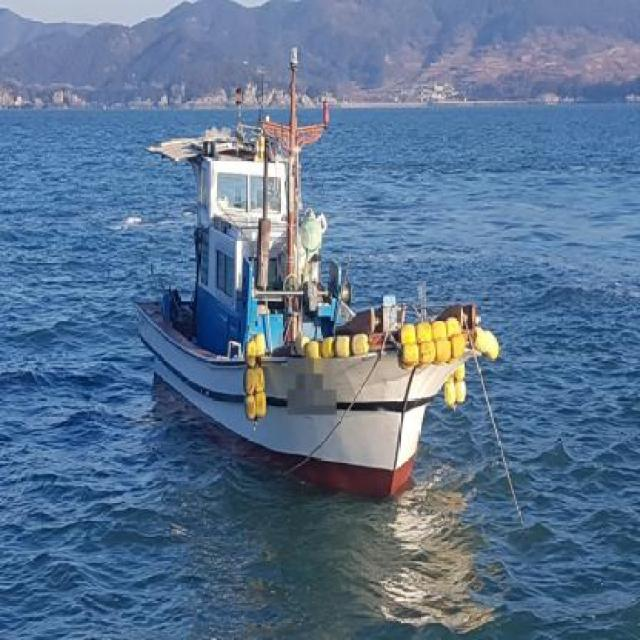fish-b: (129, 40, 504, 511)
